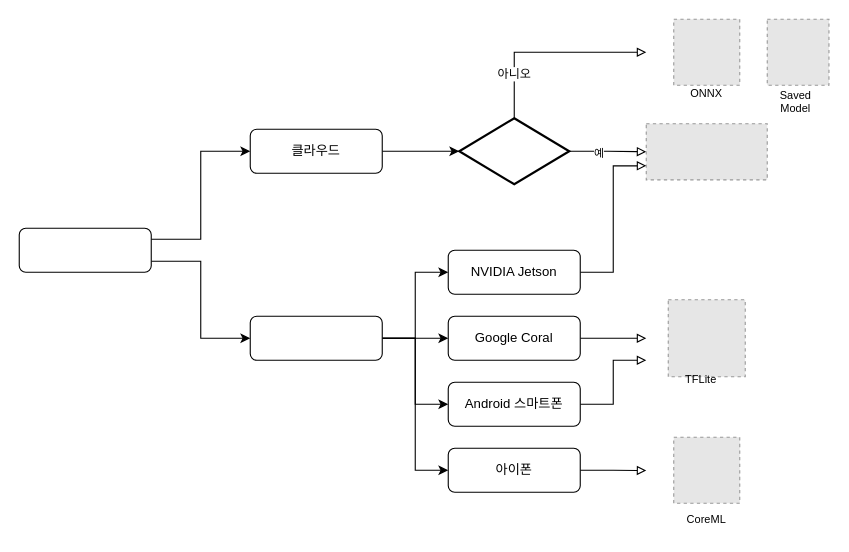
Some shapes in this 849 by 552 pixel diagram are drawn without their labels. Grey dashed boxes stand in for pictures. Here are the shapes that lost their labels. From the top down, the box of each, then its label:
(458, 117, 570, 185): GPU 가속이 필요한가?
(18, 227, 151, 272): 딥러닝 모델 배포 타겟
(249, 315, 382, 360): 에지
